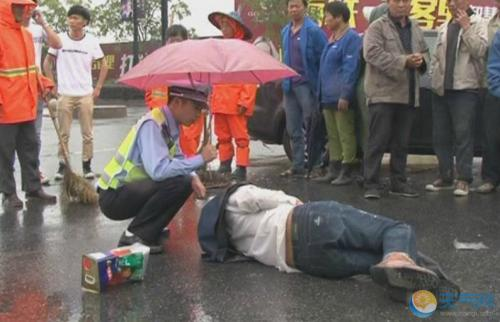10+: (1, 1, 498, 311)
down: (195, 178, 464, 311)
